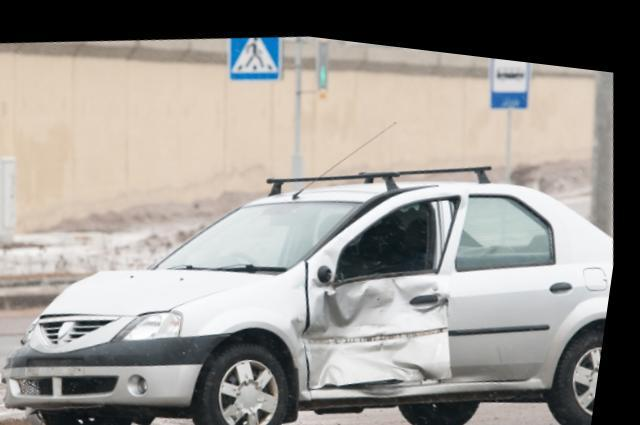dent: (310, 266, 457, 379)
no part: (10, 308, 51, 407)
